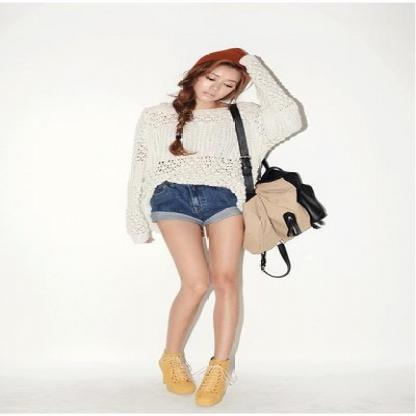bag: (228, 104, 320, 258)
jacket: (124, 53, 300, 240)
shoe: (159, 341, 234, 406)
shorts: (150, 180, 237, 233)
